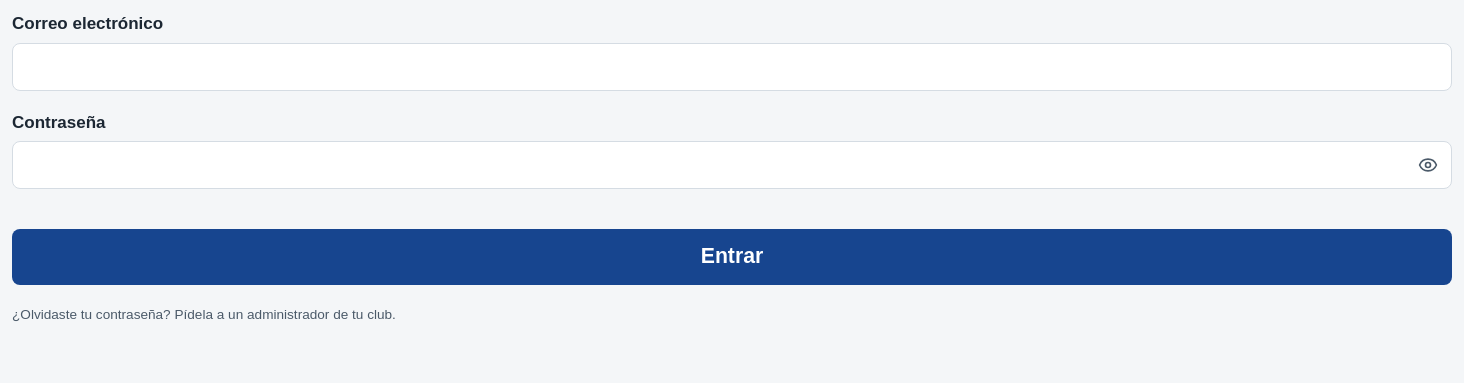
Test: LoginForm › sin red avisa que el primer inicio necesita internet
Type "ana@example.org" into the field labelled "Correo electrónico" at (732, 67), box [12, 43, 1452, 91]
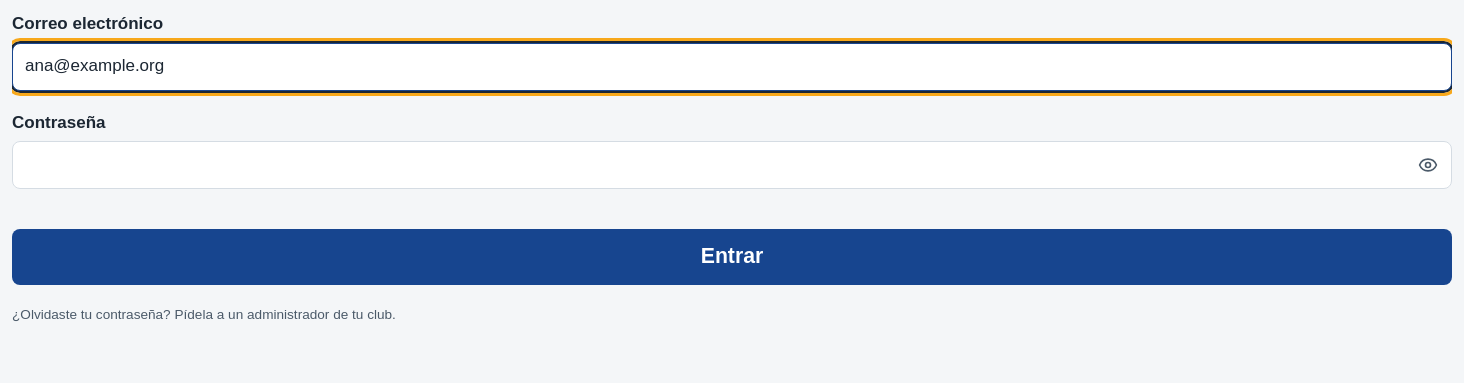
Type "x" into the password field labelled "Contraseña" at (732, 165), box [12, 141, 1452, 189]
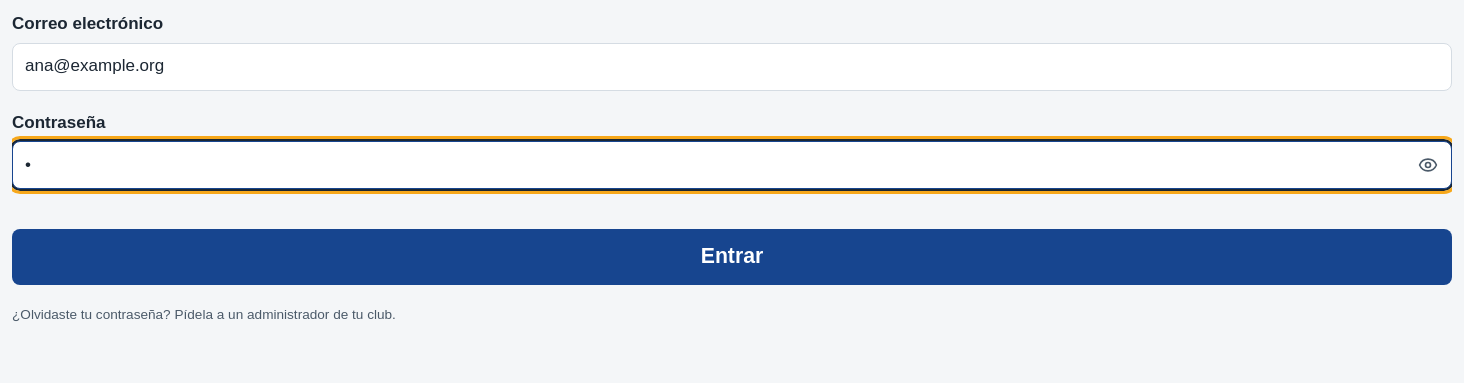
Click the button "Entrar" at (732, 257), box [12, 229, 1452, 285]
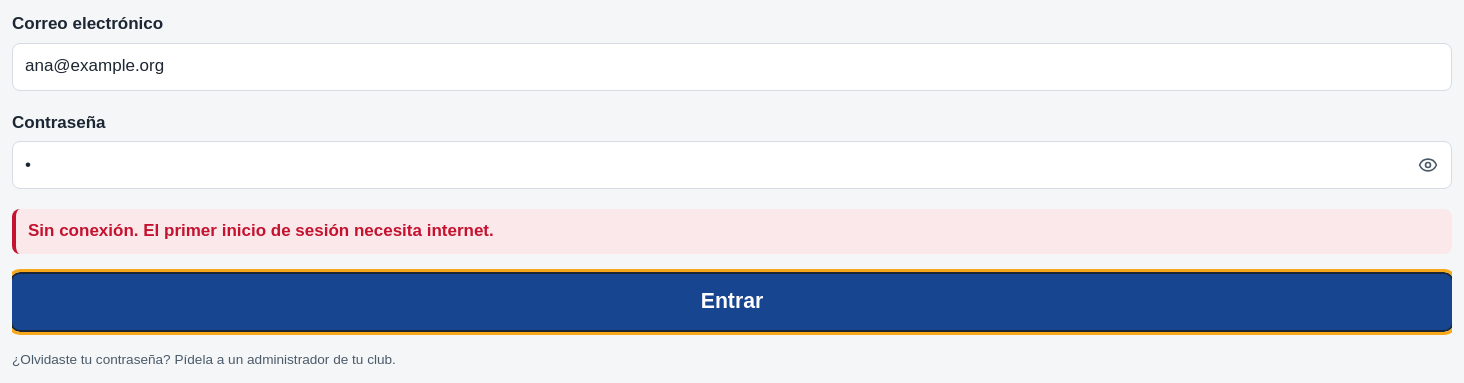
Check: the text "Sin conexión. El primer inicio de sesión necesita internet." is shown, box [12, 209, 1452, 254]
